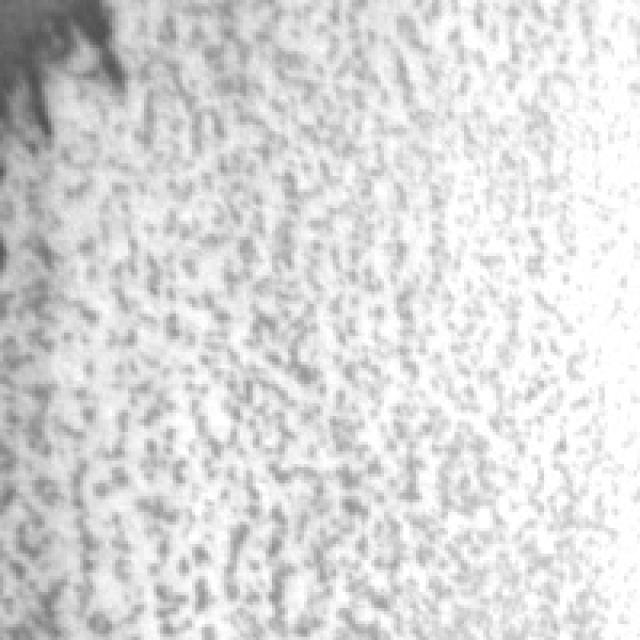patches: (4, 0, 135, 150)
pitted_surface: (19, 26, 630, 608)
